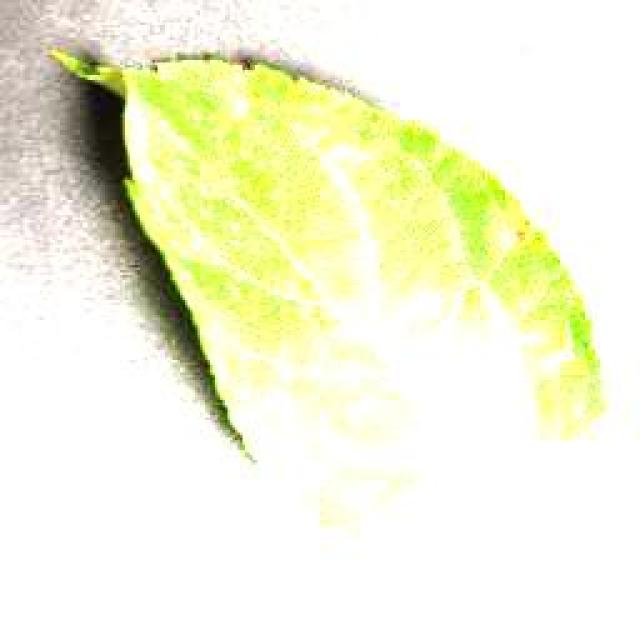apple scab disease: (42, 35, 608, 525)
